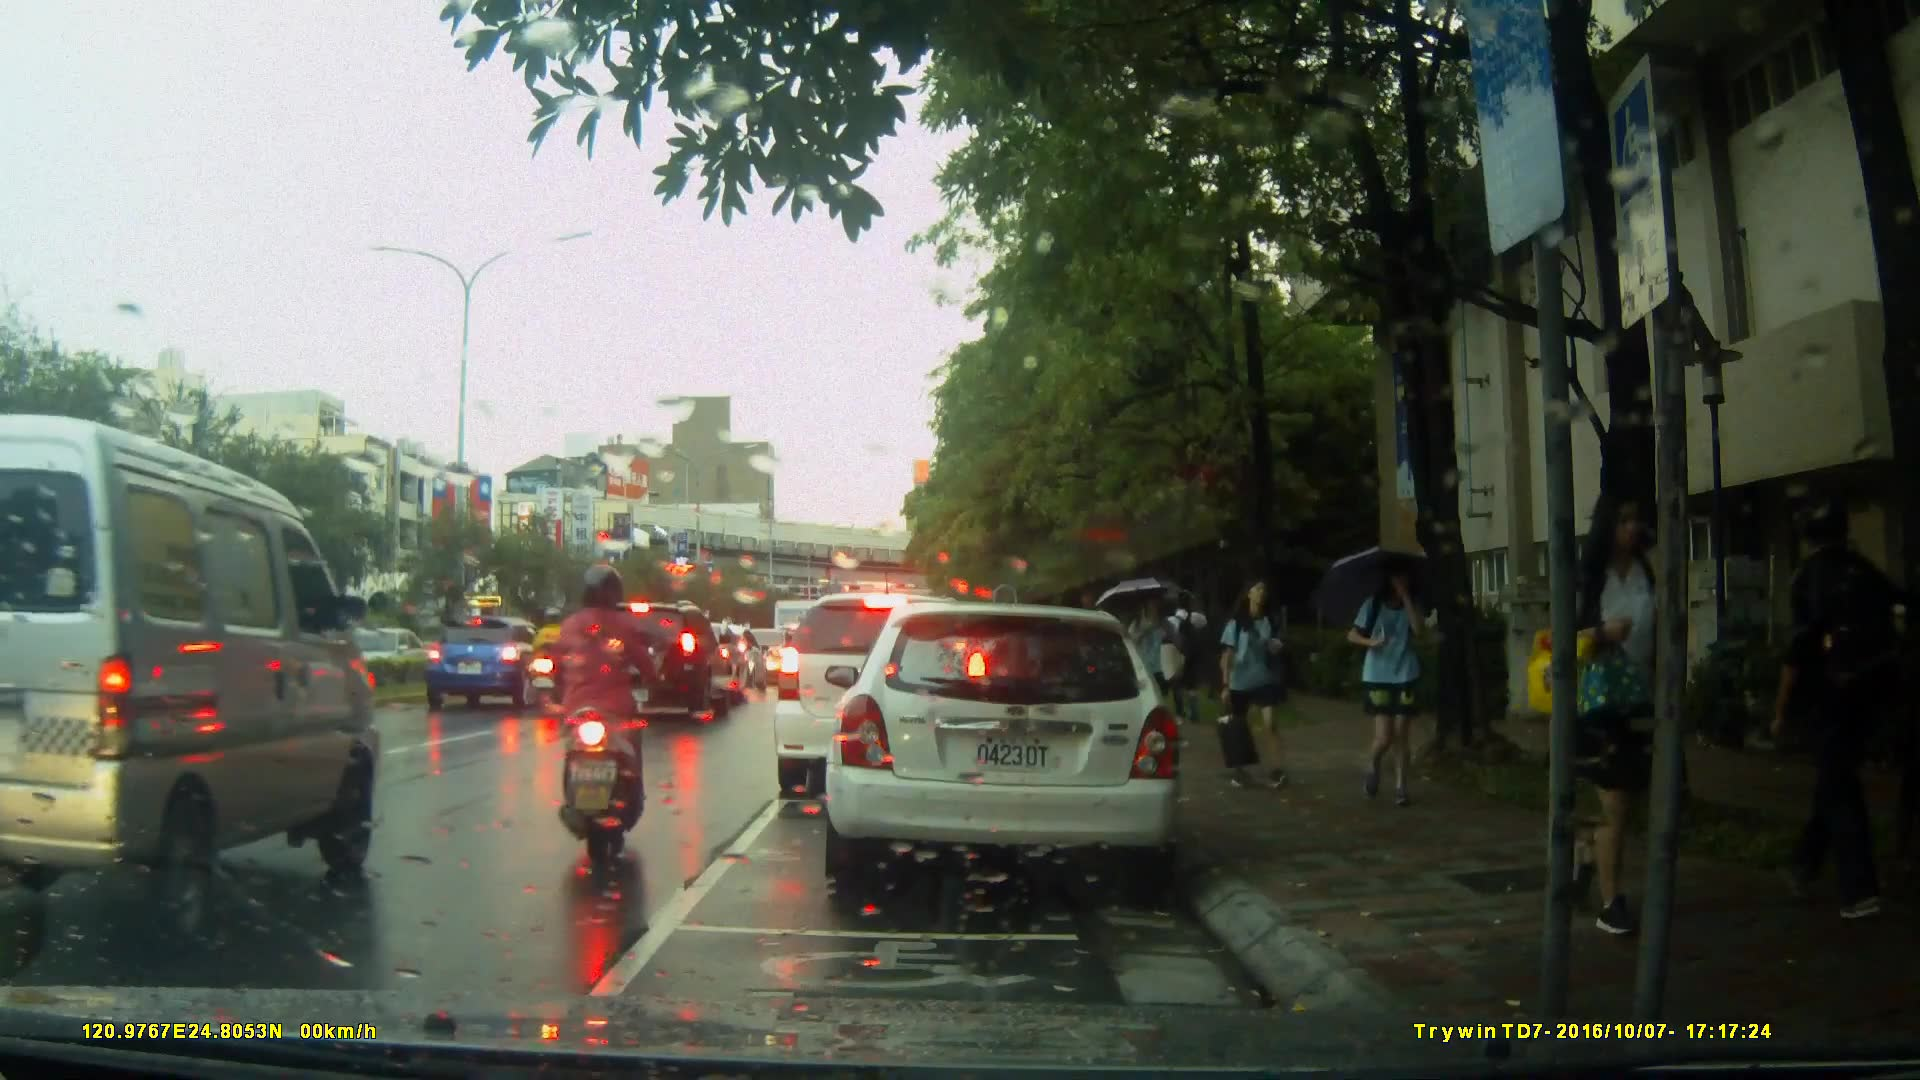pedestrian: (1562, 472, 1693, 927), (1780, 486, 1887, 923), (1336, 551, 1429, 812), (1189, 562, 1274, 778)
rider: (535, 557, 643, 861), (536, 606, 579, 703)
vehicle: (1, 412, 386, 952), (815, 593, 1204, 909), (771, 590, 994, 802), (573, 602, 736, 725), (424, 617, 566, 710)
